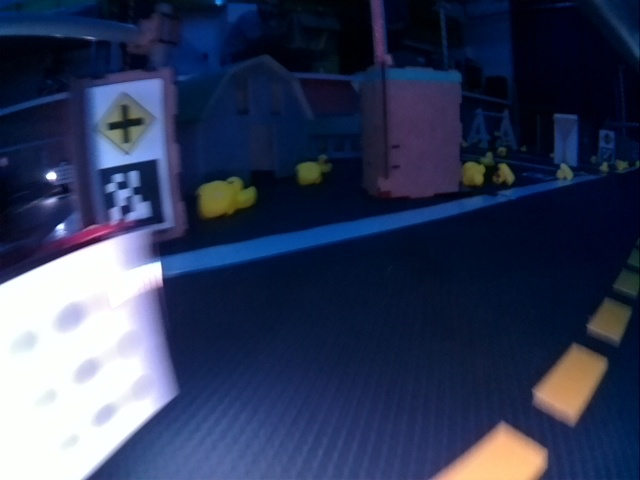Duckie: (201, 180, 236, 217), (231, 177, 257, 209), (462, 163, 486, 186), (296, 161, 321, 183), (495, 164, 515, 185), (556, 163, 574, 181), (318, 155, 333, 172), (482, 152, 492, 162), (599, 163, 609, 172), (499, 146, 508, 156)
Duckiebot: (2, 223, 182, 480)
Intersection sign: (95, 91, 157, 153)
QR code: (96, 160, 165, 230)
